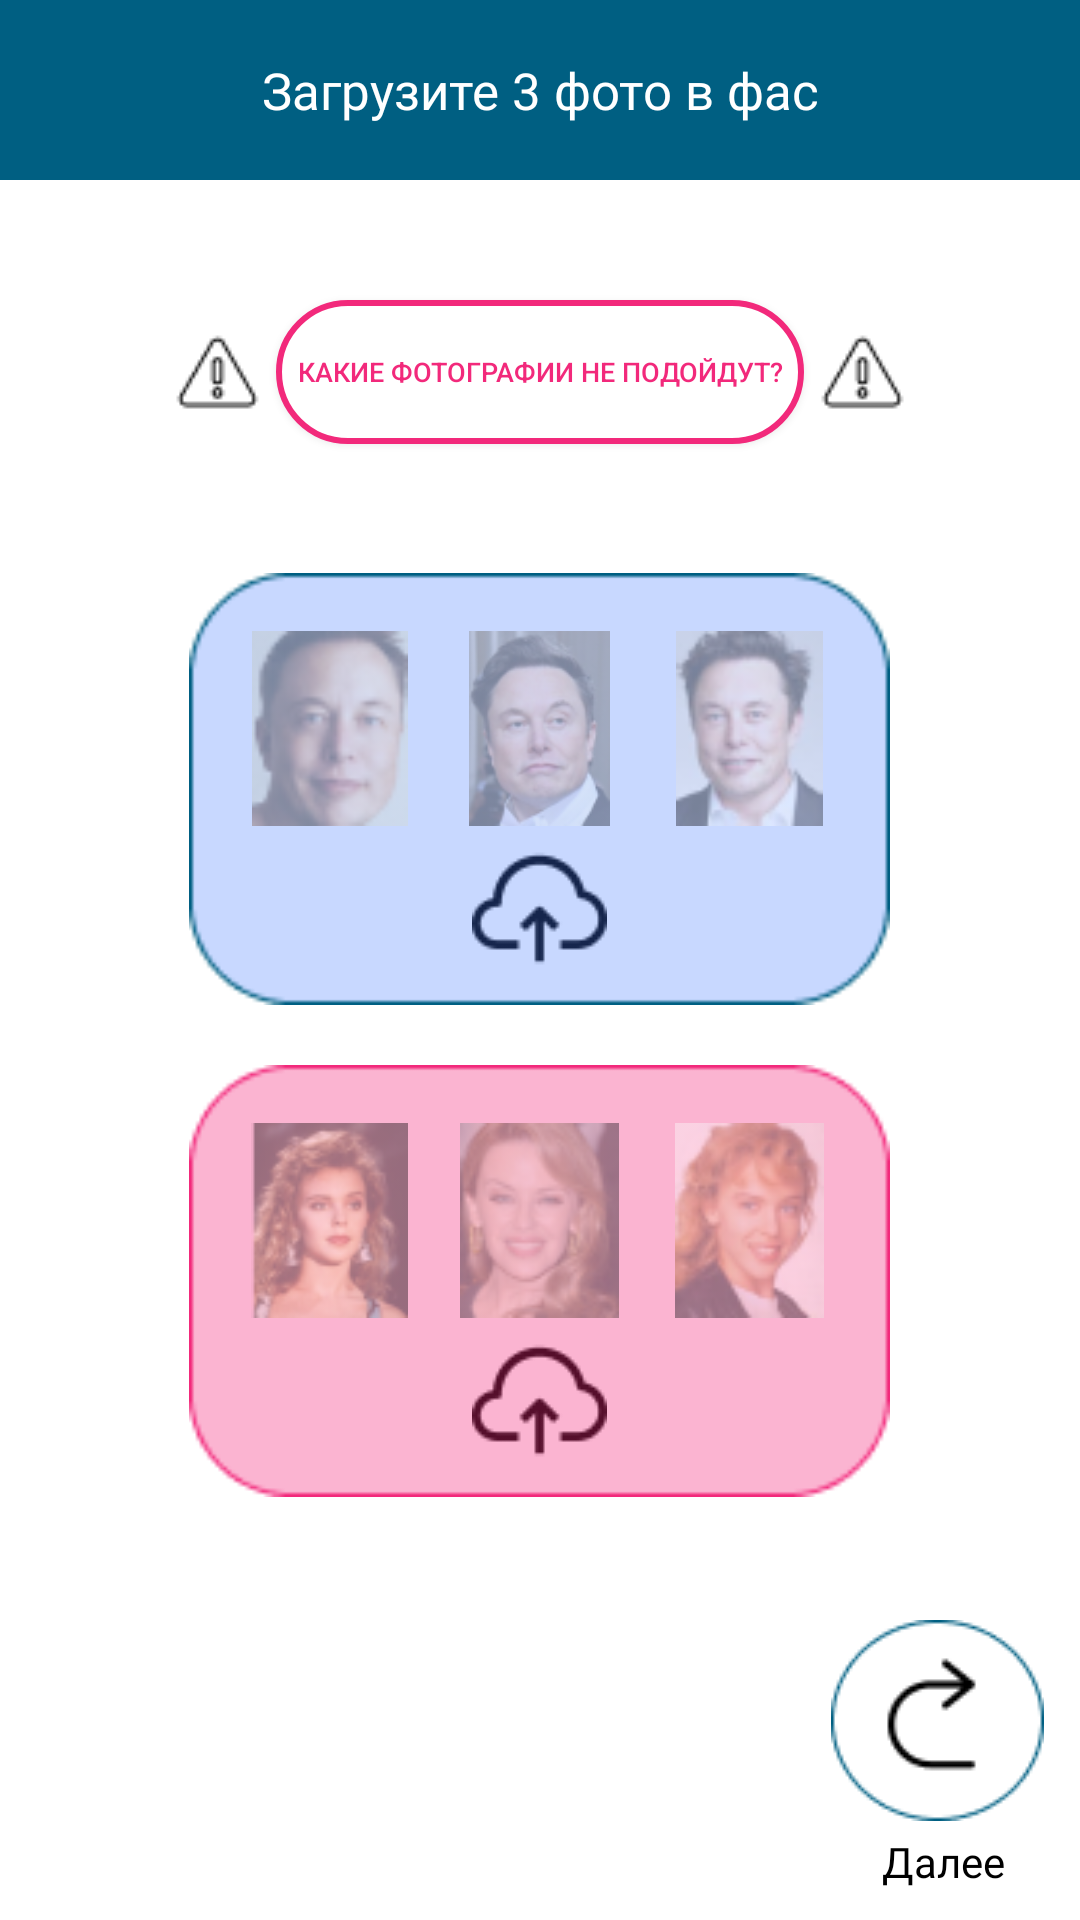

Point at icon controls on the screen. Image size 1080px x 1920px, points as point (x, y).
for warning: point (217, 372), point (862, 372)
